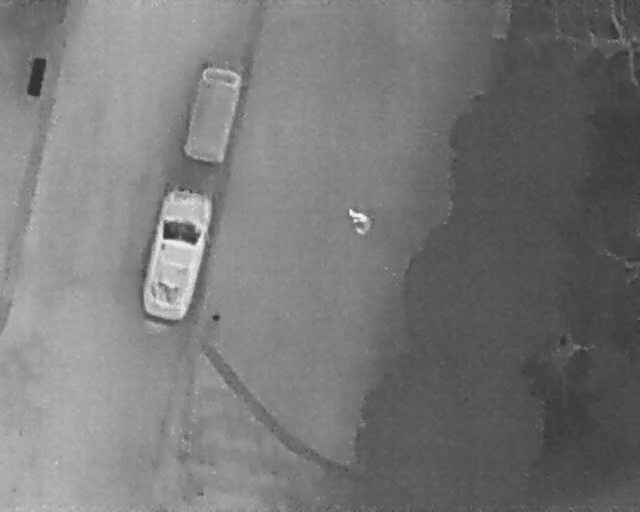Car: (134, 180, 219, 327), (179, 60, 245, 168)
Person: (348, 207, 374, 237)
